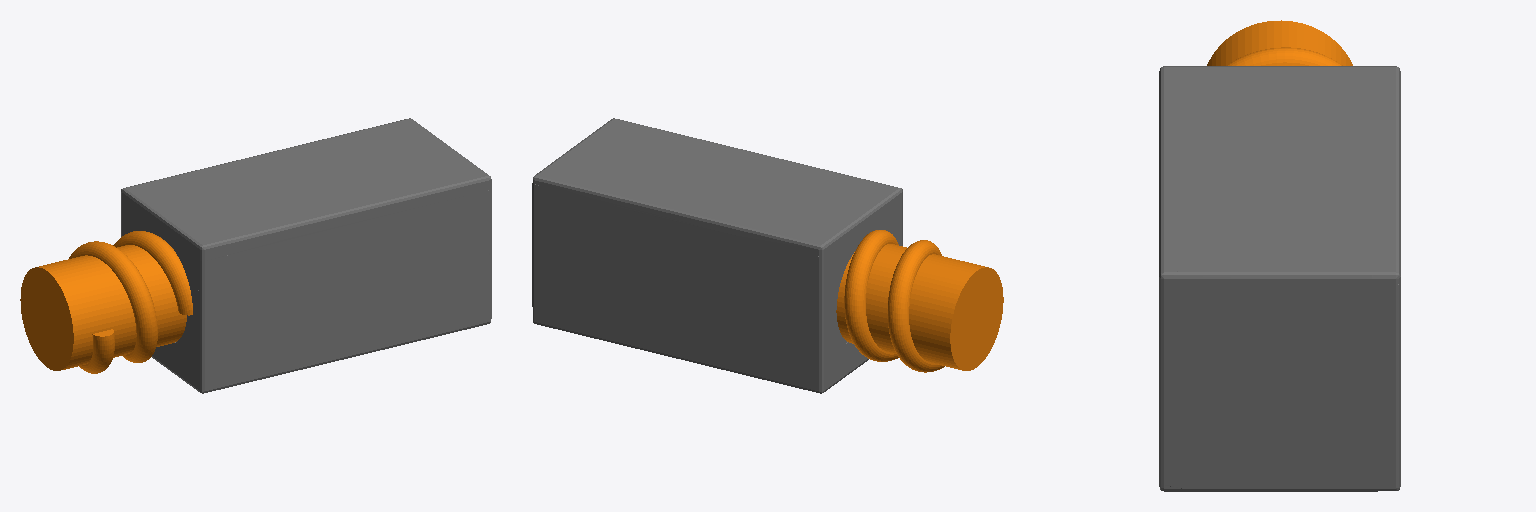
URDF robot description (square_table_leg4_1p5x_sdf_hybrid_matchedmass):
<?xml version="1.0" encoding="utf-8"?>
<robot name="square_table_leg4_1p5x_sdf_hybrid_matchedmass">
  <link name="base_link">
    <inertial>
      <!-- measured 1.5x: 63.97 g -->
      <mass value="0.063970"/>
      <origin xyz="0.008618 0.000000 -0.000002" rpy="0 0 0"/>
      <inertia ixx="1.626519e-05" ixy="-1.271277e-09" ixz="-5.262118e-08" iyy="7.608556e-05" iyz="-1.833333e-11" izz="7.608259e-05"/>
    </inertial>
  </link>
  <material name="thread">
    <color rgba="0.95 0.55 0.10 1.0"/>
  </material>
  <material name="body">
    <color rgba="0.50 0.50 0.50 1.0"/>
  </material>
  <link name="thread_link">
    <visual>
      <origin xyz="0.000000 0.000000 0.000000" rpy="0.000000 0.000000 0.000000"/>
      <geometry>
        <mesh filename="square_table_leg4_1p5x_thread.obj" scale="1 1 1"/>
      </geometry>
      <material name="thread"/>
    </visual>
    <collision>
      <origin xyz="0.000000 0.000000 0.000000" rpy="0.000000 0.000000 0.000000"/>
      <geometry>
        <mesh filename="square_table_leg4_1p5x_thread.obj" scale="1 1 1"/>
      </geometry>
      <sdf resolution="256"/>
    </collision>
  </link>
  <joint name="base_to_thread" type="fixed">
    <parent link="base_link"/>
    <child link="thread_link"/>
    <origin xyz="0.000000 0.000000 0.000000" rpy="0 0 0"/>
  </joint>
  <link name="body_link">
    <!-- Per-hull visual+collision pairs (12 CoACD decomp pieces). Mirrors
         the convention in fabrica/beam_3x/*/sdf_hybrid so visualize_problems
         renders each hull as its own colored chunk. -->
    <visual><origin xyz="0.000000 0.000000 0.000000" rpy="0 0 0"/><geometry><mesh filename="body_coacd/decomp_0.obj" scale="1 1 1"/></geometry><material name="body"/></visual>
    <collision><origin xyz="0.000000 0.000000 0.000000" rpy="0 0 0"/><geometry><mesh filename="body_coacd/decomp_0.obj" scale="1 1 1"/></geometry></collision>
    <visual><origin xyz="0.000000 0.000000 0.000000" rpy="0 0 0"/><geometry><mesh filename="body_coacd/decomp_1.obj" scale="1 1 1"/></geometry><material name="body"/></visual>
    <collision><origin xyz="0.000000 0.000000 0.000000" rpy="0 0 0"/><geometry><mesh filename="body_coacd/decomp_1.obj" scale="1 1 1"/></geometry></collision>
    <visual><origin xyz="0.000000 0.000000 0.000000" rpy="0 0 0"/><geometry><mesh filename="body_coacd/decomp_2.obj" scale="1 1 1"/></geometry><material name="body"/></visual>
    <collision><origin xyz="0.000000 0.000000 0.000000" rpy="0 0 0"/><geometry><mesh filename="body_coacd/decomp_2.obj" scale="1 1 1"/></geometry></collision>
    <visual><origin xyz="0.000000 0.000000 0.000000" rpy="0 0 0"/><geometry><mesh filename="body_coacd/decomp_3.obj" scale="1 1 1"/></geometry><material name="body"/></visual>
    <collision><origin xyz="0.000000 0.000000 0.000000" rpy="0 0 0"/><geometry><mesh filename="body_coacd/decomp_3.obj" scale="1 1 1"/></geometry></collision>
    <visual><origin xyz="0.000000 0.000000 0.000000" rpy="0 0 0"/><geometry><mesh filename="body_coacd/decomp_4.obj" scale="1 1 1"/></geometry><material name="body"/></visual>
    <collision><origin xyz="0.000000 0.000000 0.000000" rpy="0 0 0"/><geometry><mesh filename="body_coacd/decomp_4.obj" scale="1 1 1"/></geometry></collision>
    <visual><origin xyz="0.000000 0.000000 0.000000" rpy="0 0 0"/><geometry><mesh filename="body_coacd/decomp_5.obj" scale="1 1 1"/></geometry><material name="body"/></visual>
    <collision><origin xyz="0.000000 0.000000 0.000000" rpy="0 0 0"/><geometry><mesh filename="body_coacd/decomp_5.obj" scale="1 1 1"/></geometry></collision>
    <visual><origin xyz="0.000000 0.000000 0.000000" rpy="0 0 0"/><geometry><mesh filename="body_coacd/decomp_6.obj" scale="1 1 1"/></geometry><material name="body"/></visual>
    <collision><origin xyz="0.000000 0.000000 0.000000" rpy="0 0 0"/><geometry><mesh filename="body_coacd/decomp_6.obj" scale="1 1 1"/></geometry></collision>
    <visual><origin xyz="0.000000 0.000000 0.000000" rpy="0 0 0"/><geometry><mesh filename="body_coacd/decomp_7.obj" scale="1 1 1"/></geometry><material name="body"/></visual>
    <collision><origin xyz="0.000000 0.000000 0.000000" rpy="0 0 0"/><geometry><mesh filename="body_coacd/decomp_7.obj" scale="1 1 1"/></geometry></collision>
    <visual><origin xyz="0.000000 0.000000 0.000000" rpy="0 0 0"/><geometry><mesh filename="body_coacd/decomp_8.obj" scale="1 1 1"/></geometry><material name="body"/></visual>
    <collision><origin xyz="0.000000 0.000000 0.000000" rpy="0 0 0"/><geometry><mesh filename="body_coacd/decomp_8.obj" scale="1 1 1"/></geometry></collision>
    <visual><origin xyz="0.000000 0.000000 0.000000" rpy="0 0 0"/><geometry><mesh filename="body_coacd/decomp_9.obj" scale="1 1 1"/></geometry><material name="body"/></visual>
    <collision><origin xyz="0.000000 0.000000 0.000000" rpy="0 0 0"/><geometry><mesh filename="body_coacd/decomp_9.obj" scale="1 1 1"/></geometry></collision>
    <visual><origin xyz="0.000000 0.000000 0.000000" rpy="0 0 0"/><geometry><mesh filename="body_coacd/decomp_10.obj" scale="1 1 1"/></geometry><material name="body"/></visual>
    <collision><origin xyz="0.000000 0.000000 0.000000" rpy="0 0 0"/><geometry><mesh filename="body_coacd/decomp_10.obj" scale="1 1 1"/></geometry></collision>
    <visual><origin xyz="0.000000 0.000000 0.000000" rpy="0 0 0"/><geometry><mesh filename="body_coacd/decomp_11.obj" scale="1 1 1"/></geometry><material name="body"/></visual>
    <collision><origin xyz="0.000000 0.000000 0.000000" rpy="0 0 0"/><geometry><mesh filename="body_coacd/decomp_11.obj" scale="1 1 1"/></geometry></collision>
  </link>
  <joint name="base_to_body" type="fixed">
    <parent link="base_link"/>
    <child link="body_link"/>
    <origin xyz="0.000000 0.000000 0.000000" rpy="0 0 0"/>
  </joint>
</robot>

--- Render facts (derived) ---
3 views of the same robot in one strip: view 1: azimuth 30°, elevation 25°; view 2: azimuth 150°, elevation 25°; view 3: azimuth 270°, elevation 25° (orthographic).
Model square_table_leg4_1p5x_sdf_hybrid_matchedmass with 3 links and 2 joints (2 fixed), rooted at base_link, posed every joint at zero.
Links seen in each view (by area): view 1: body_link, thread_link; view 2: body_link, thread_link; view 3: body_link, thread_link.
Boxes of the visible links, box(x1,y1,x2,y2) form: body_link: box(121, 118, 491, 393); thread_link: box(20, 231, 192, 373); body_link: box(532, 118, 902, 393); thread_link: box(836, 230, 1003, 372); body_link: box(1159, 66, 1400, 491); thread_link: box(1207, 20, 1352, 65).
Bounding box of the posed robot: 0.1318 × 0.046 × 0.046 m (x, y, z).
13 mesh visuals loaded from 13 distinct referenced files (13 OBJ).
